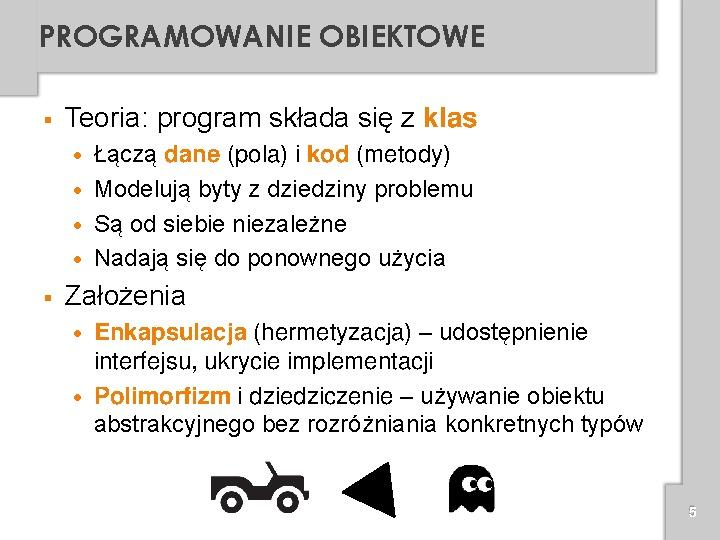paragraph: (30, 95, 658, 448)
title: (27, 11, 493, 60)
